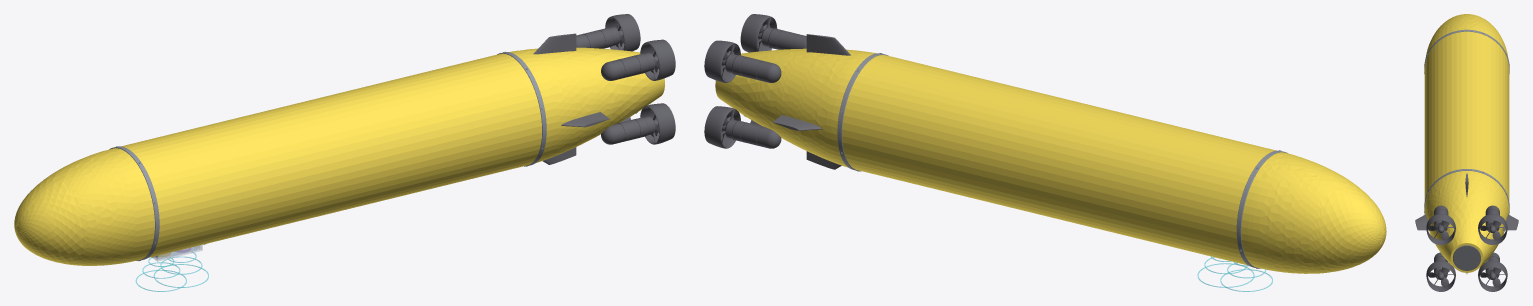
File: SIH26058_COMPLETE_AUV_r06.glb
The picture shows the model from 3 angles, left to right: view 1: azimuth 30°, elevation 25°; view 2: azimuth 150°, elevation 25°; view 3: azimuth 270°, elevation 25°; orthographic projection. The views are drawn at different scales.
Visible parts, largest first — view 1: AUV_HULL_MID, NOSE, TAIL_CONE, THRUSTER_1_MOTOR, THRUSTER_2_MOTOR, THRUSTER_2_DUCT, THRUSTER_1_DUCT, THRUSTER_4_DUCT, THRUSTER_4_MOTOR, NOSE_JOINT_RING, TAIL_JOINT_RING, STABILISER_FIN_1; view 2: AUV_HULL_MID, NOSE, TAIL_CONE, THRUSTER_4_MOTOR, THRUSTER_3_MOTOR, THRUSTER_4_DUCT, THRUSTER_3_DUCT, THRUSTER_1_DUCT, THRUSTER_1_MOTOR, NOSE_JOINT_RING, TAIL_JOINT_RING, STABILISER_FIN_1 (+1 smaller); view 3: AUV_HULL_MID, TAIL_CONE, NOSE, TAIL_CAP, THRUSTER_2_DUCT, THRUSTER_3_DUCT, THRUSTER_1_DUCT, THRUSTER_4_DUCT, TAIL_JOINT_RING, NOSE_JOINT_RING, THRUSTER_2_PROPELLER, THRUSTER_4_PROPELLER (+8 smaller).
Boxes of the visible parts, x1,y1,x2,y2 form: AUV_HULL_MID: (121, 53, 541, 257); NOSE: (14, 148, 154, 265); TAIL_CONE: (509, 47, 664, 162); THRUSTER_1_MOTOR: (601, 52, 655, 80); THRUSTER_2_MOTOR: (601, 116, 655, 144); THRUSTER_2_DUCT: (640, 103, 675, 144); THRUSTER_1_DUCT: (640, 39, 675, 80); THRUSTER_4_DUCT: (605, 14, 640, 51); THRUSTER_4_MOTOR: (576, 27, 620, 48); NOSE_JOINT_RING: (109, 146, 159, 260); TAIL_JOINT_RING: (497, 51, 546, 166); STABILISER_FIN_1: (533, 33, 576, 54); AUV_HULL_MID: (842, 55, 1275, 265); NOSE: (1241, 152, 1386, 273); TAIL_CONE: (715, 48, 875, 167); THRUSTER_4_MOTOR: (725, 54, 781, 83); THRUSTER_3_MOTOR: (724, 119, 781, 148); THRUSTER_4_DUCT: (704, 40, 740, 82); THRUSTER_3_DUCT: (704, 106, 740, 148); THRUSTER_1_DUCT: (740, 14, 777, 52); THRUSTER_1_MOTOR: (761, 27, 806, 49); NOSE_JOINT_RING: (1236, 150, 1287, 268); TAIL_JOINT_RING: (837, 53, 888, 171); STABILISER_FIN_1: (806, 34, 850, 55); AUV_HULL_MID: (1424, 31, 1509, 200); TAIL_CONE: (1424, 171, 1509, 272); NOSE: (1425, 14, 1508, 57); TAIL_CAP: (1453, 245, 1480, 270); THRUSTER_2_DUCT: (1426, 260, 1455, 291); THRUSTER_3_DUCT: (1478, 260, 1507, 291); THRUSTER_1_DUCT: (1426, 214, 1455, 244); THRUSTER_4_DUCT: (1478, 214, 1507, 244); TAIL_JOINT_RING: (1424, 169, 1509, 214); NOSE_JOINT_RING: (1424, 29, 1509, 73); THRUSTER_2_PROPELLER: (1428, 267, 1449, 287); THRUSTER_4_PROPELLER: (1480, 220, 1501, 240).
Bounding box in the file's own units: 1.15 × 0.2482 × 0.2204.
